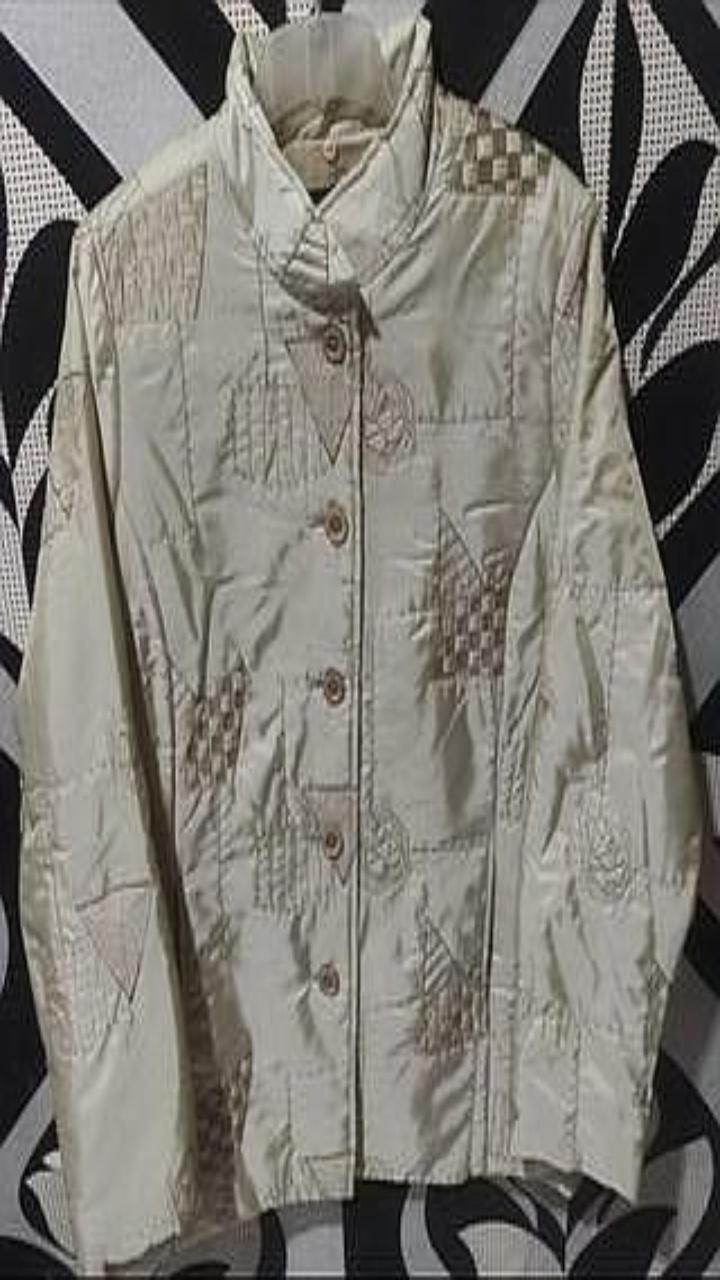Sports_Jacket: (16, 13, 702, 1272)
